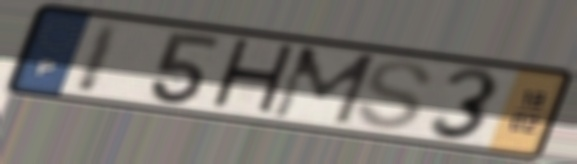3: (426, 66, 504, 144)
5: (147, 28, 226, 107)
H: (204, 35, 300, 120)
I: (70, 19, 127, 96)
M: (266, 44, 381, 128)
S: (352, 58, 437, 133)
